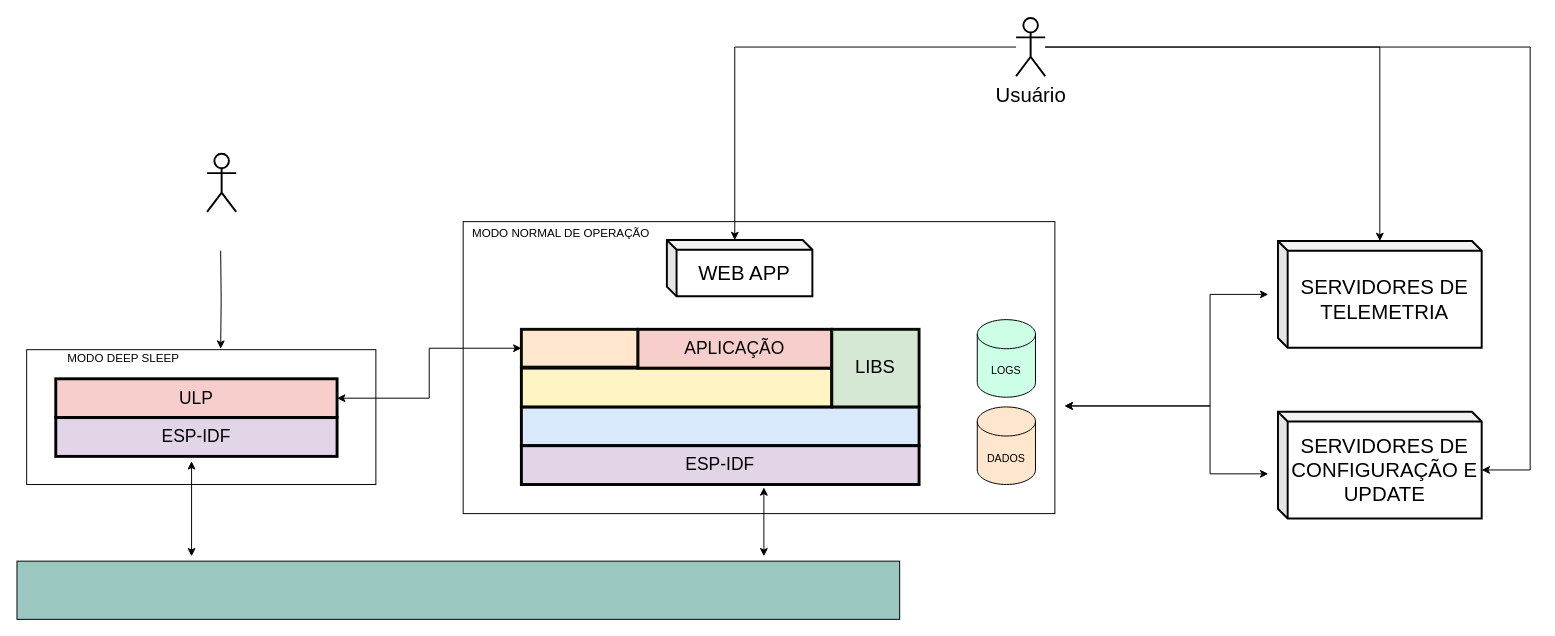
The diagram is 1555 pixels wide and 636 high, and some of its shapes have lost their labels. Here are the shapes that lost their labels. From the top down, the centre of each, then its label:
At [221,182]: "Tempo".
At [579,347]: "DADOS DA APLICAÇÃO".
At [676,387]: "CONTROLE".
At [719,426]: "DRIVER".
At [458,589]: "Módulos de HW e Sensores".
